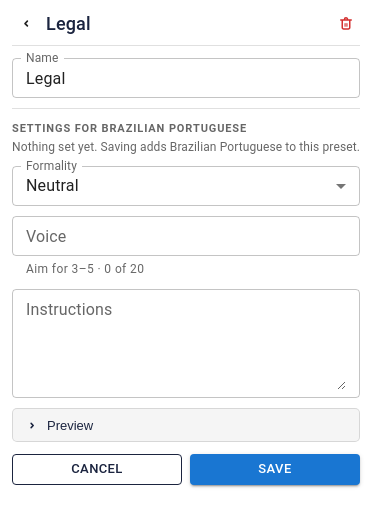
Test: the voice field (contract: label “Voice”, chips and free text, placeholder “e.g. warm, plain, confident — Enter after each” when empty, helper “Aim for 3–5 · <n › commits a word on Enter
Type "concise" into the dropdown labelled "Voice" at [184, 236], box [18,222,351,250]
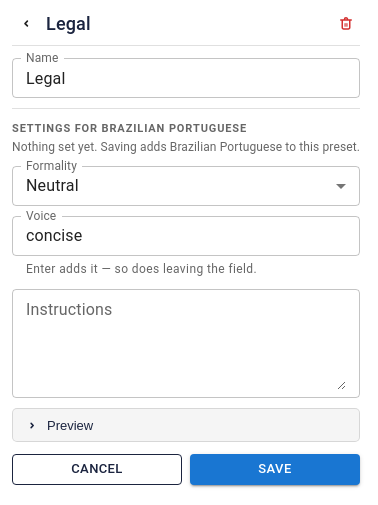
Press Enter in the dropdown labelled "Voice", box [18,222,321,250]
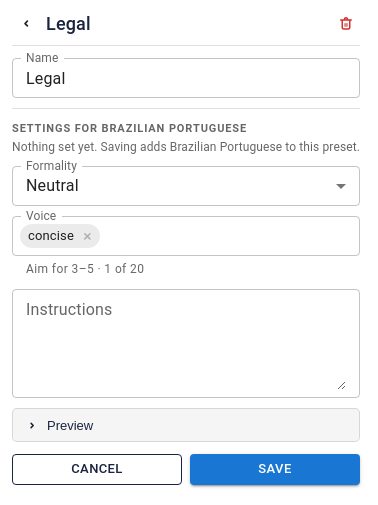
Now the text "Aim for 3–5 · 1 of 20" is shown, box [26,262,144,276]
